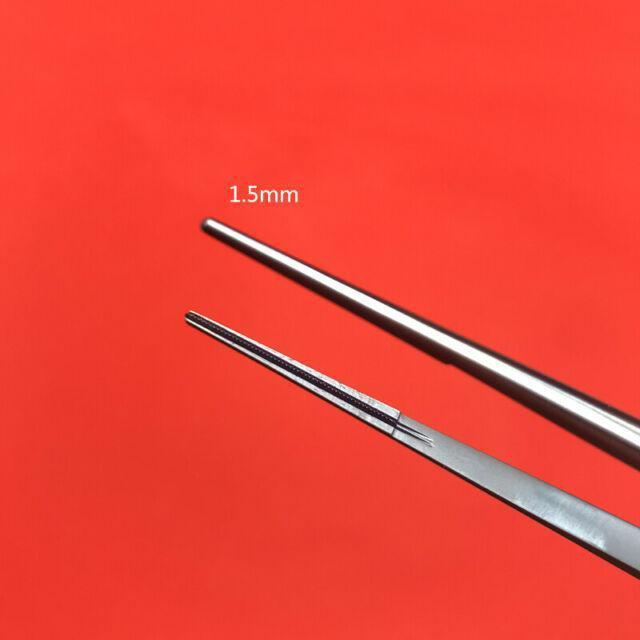Forceps: (177, 208, 640, 583)
